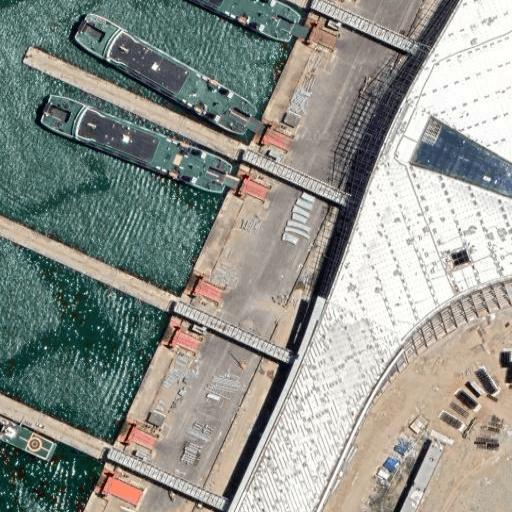building: (252, 0, 512, 512), (107, 445, 229, 512), (172, 300, 294, 364), (254, 32, 325, 133), (242, 148, 353, 208), (312, 0, 420, 55), (92, 465, 147, 511), (411, 435, 447, 491), (398, 485, 425, 512), (408, 413, 429, 435), (394, 442, 411, 457), (148, 413, 164, 427), (383, 458, 397, 472), (377, 469, 392, 482)
